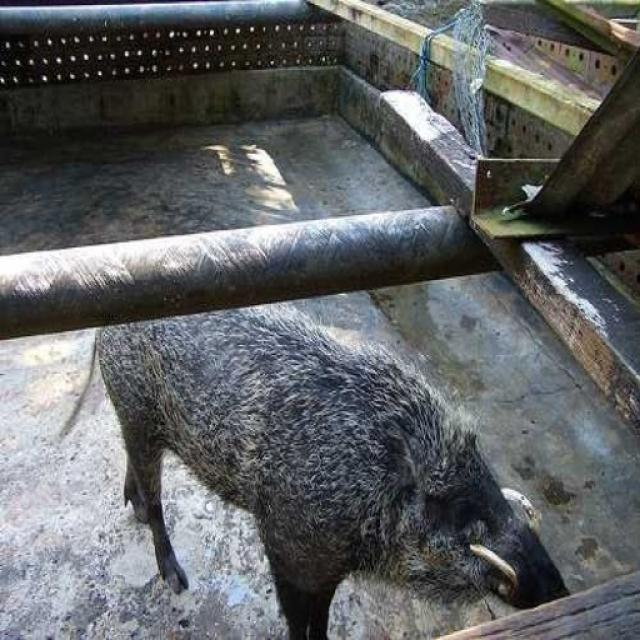pig: (32, 286, 632, 640)
